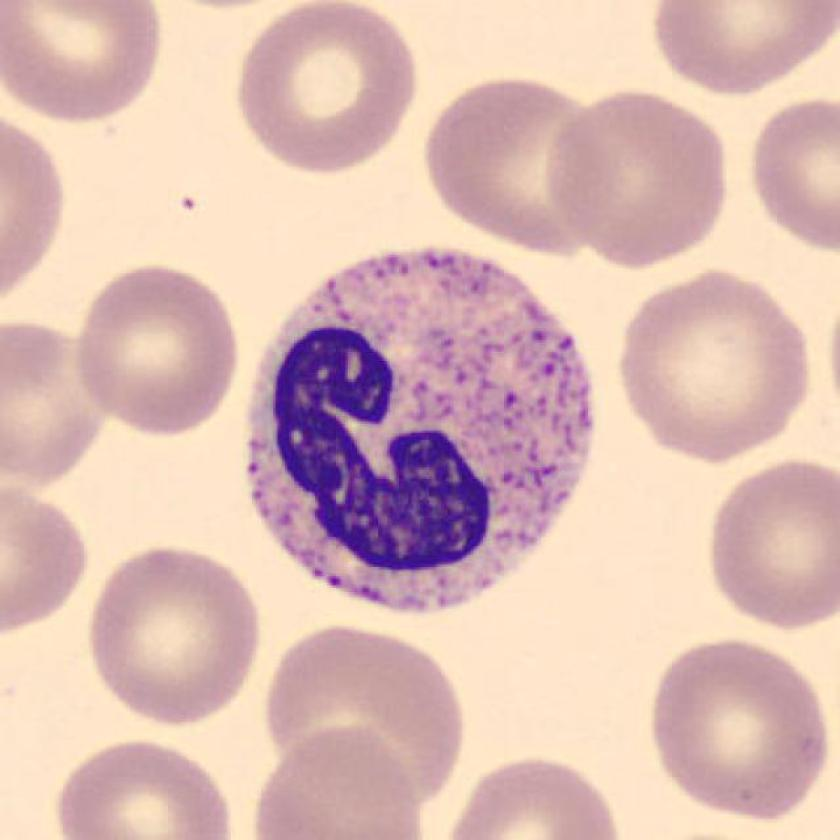neutrophil: (250, 246, 593, 610)
